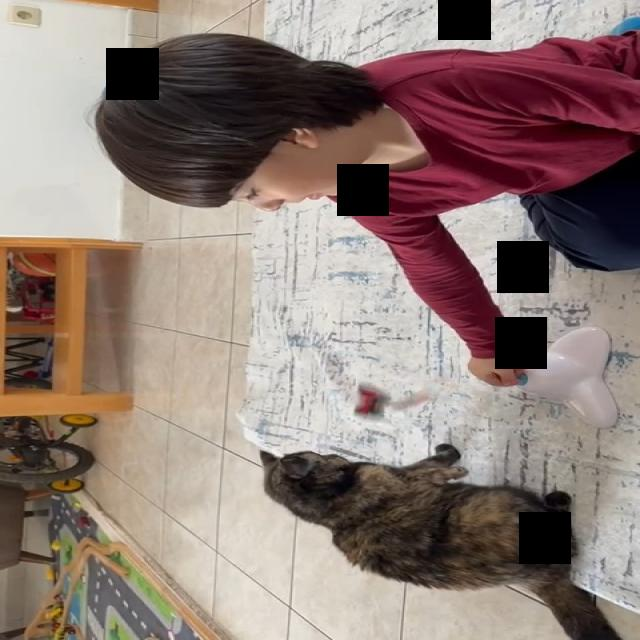authorized: (257, 443, 623, 639)
